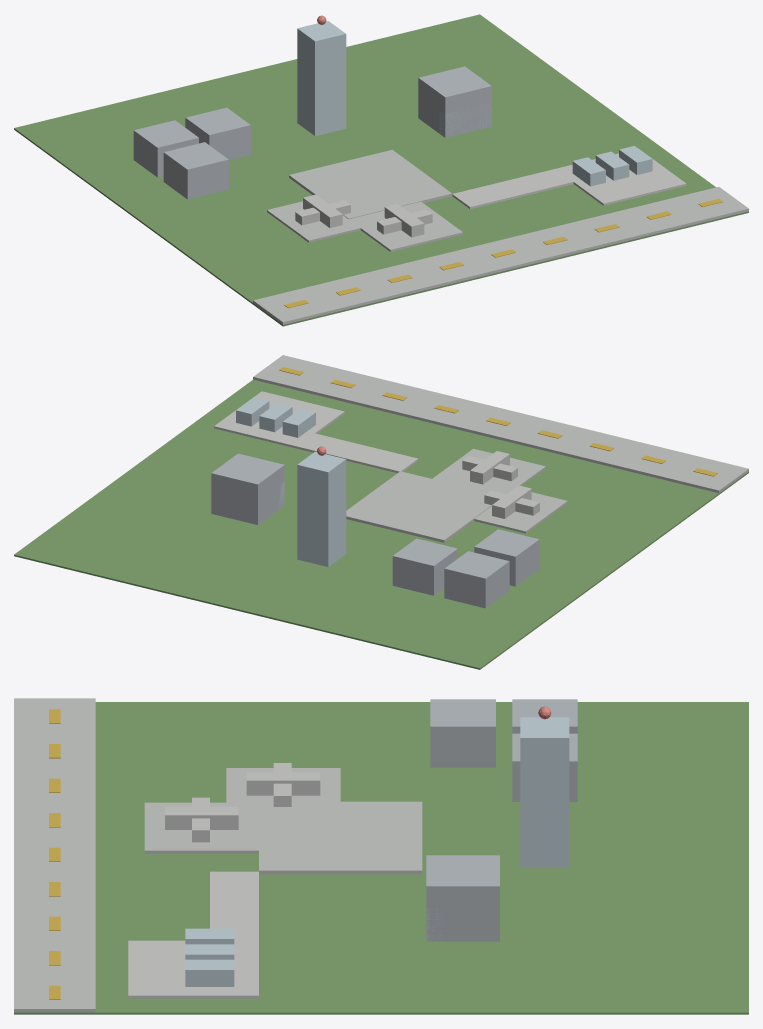
Rendered from stage_10.glb.
The picture shows the model from 3 angles, top to bottom: view 1: azimuth 30°, elevation 25°; view 2: azimuth 150°, elevation 25°; view 3: azimuth 270°, elevation 25°; orthographic projection. The views are drawn at different scales.
Parts seen in each view (by area): view 1: geometry_0; view 2: geometry_0; view 3: geometry_0.
Boxes of the visible parts, <box> form: geometry_0: <box>14,14,748,326</box>; geometry_0: <box>14,355,748,669</box>; geometry_0: <box>14,698,748,1014</box>.
Bounding box in the file's own units: 9 × 2.06 × 9.
